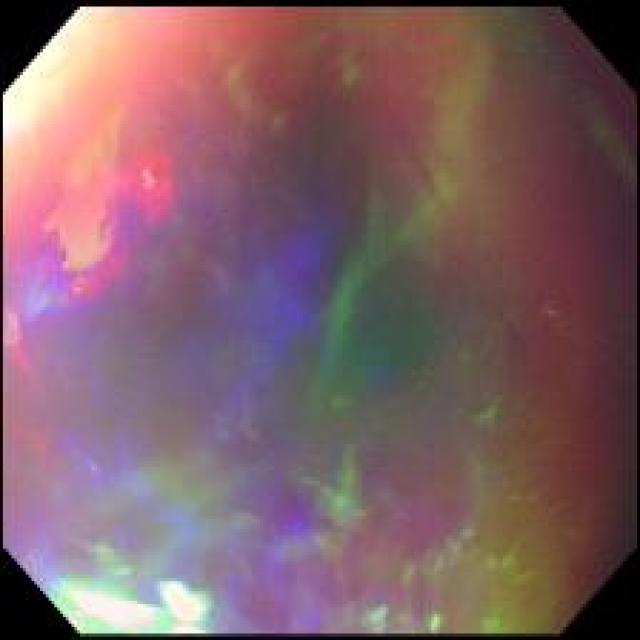color misalignment: (2, 7, 639, 637)
saturation: (4, 9, 81, 130)
specularity: (69, 592, 159, 631), (164, 587, 207, 636)
